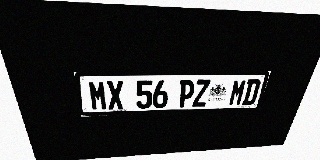5: (136, 80, 153, 109)
6: (152, 80, 169, 108)
D: (241, 79, 262, 105)
M: (88, 81, 108, 111), (228, 79, 248, 106)
P: (178, 80, 195, 107)
X: (106, 81, 124, 110)
Z: (192, 80, 211, 107)
